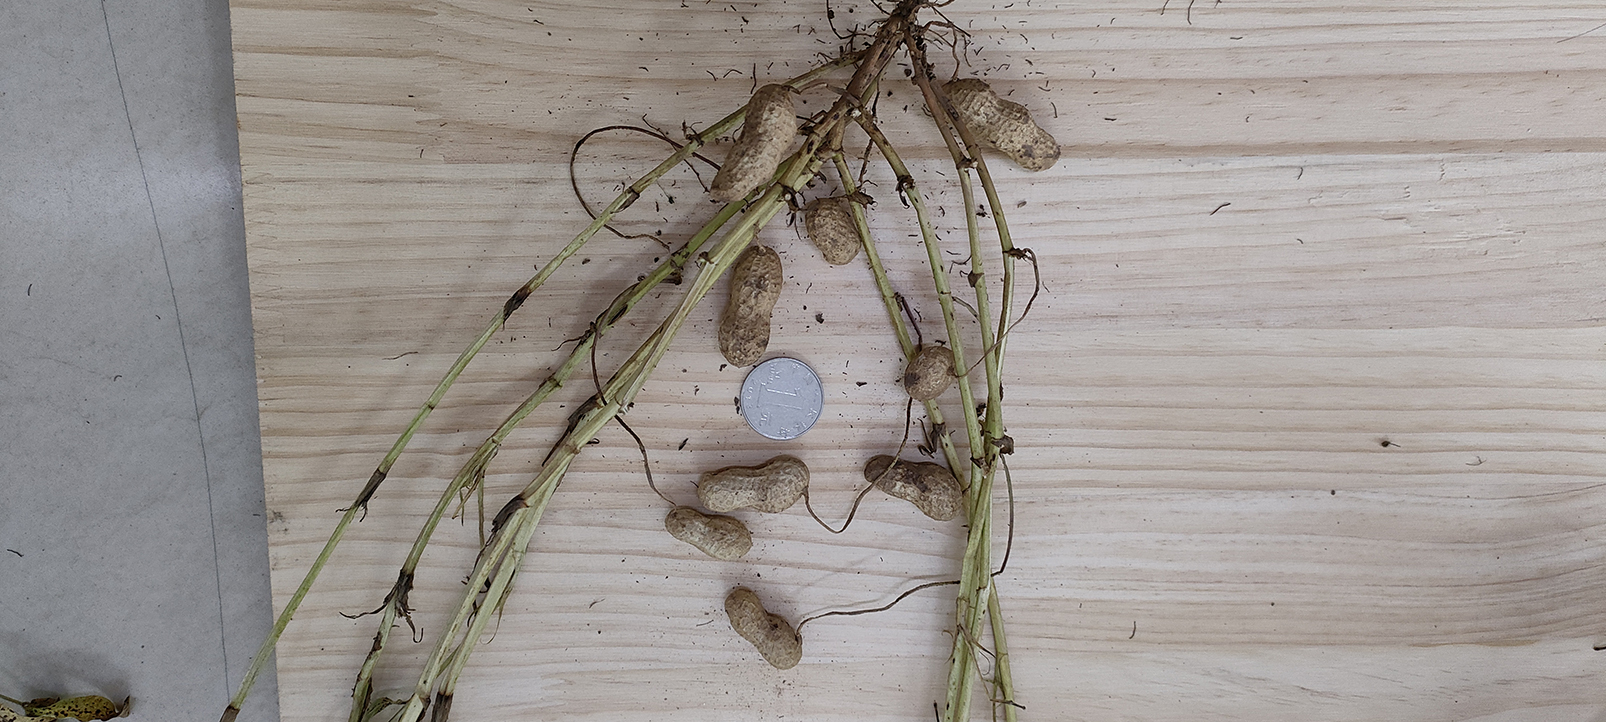h: (709, 84, 798, 206), (946, 77, 1062, 170), (718, 248, 783, 366), (694, 457, 811, 515), (725, 589, 802, 671), (664, 507, 753, 561), (805, 199, 862, 264), (903, 347, 956, 400)
l: (865, 454, 961, 521)
